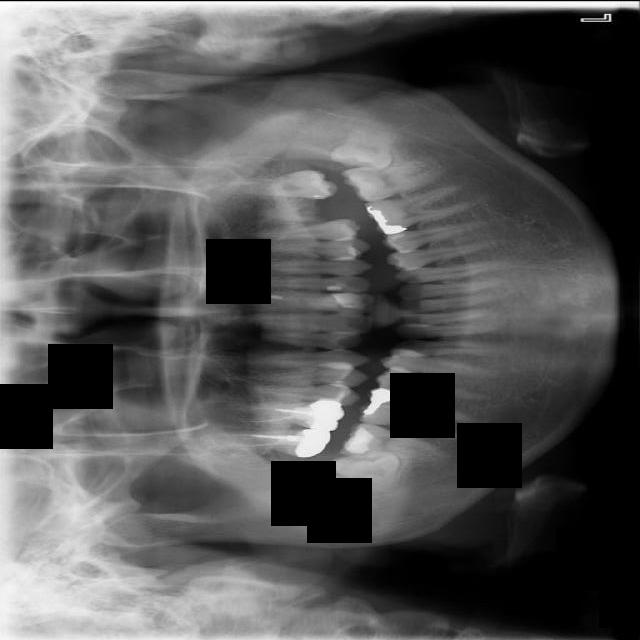52: (337, 414, 393, 471), (359, 186, 414, 243), (354, 381, 404, 430), (287, 168, 339, 199), (295, 427, 332, 460), (309, 398, 346, 431), (327, 272, 370, 295), (329, 293, 373, 313)
73: (238, 394, 317, 427), (212, 429, 302, 455), (252, 283, 333, 311), (561, 46, 570, 50)
BioHorizons Implant: (216, 165, 337, 200)
Biomet 3i Implant: (327, 120, 397, 174)
Blue Sky Bio Implant: (340, 158, 443, 204)
Caries: (213, 427, 331, 457)
Implant: (338, 420, 451, 467)
Keystone Dental Implant: (330, 448, 400, 492)
